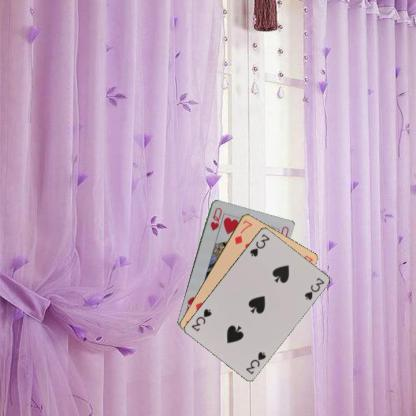3s: (243, 349, 268, 375), (247, 231, 271, 258)
7d: (232, 217, 254, 246)
Qh: (207, 204, 223, 232)
